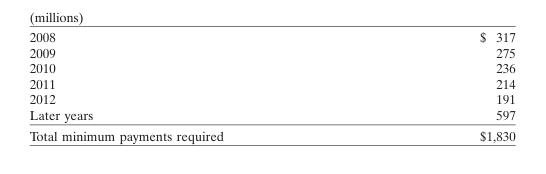table: (28, 29, 514, 142)
table column: (28, 29, 351, 142), (351, 29, 514, 142)
table row: (28, 106, 514, 124), (28, 124, 514, 142), (28, 44, 514, 60), (28, 75, 514, 91), (28, 29, 514, 44), (28, 60, 514, 75), (28, 91, 514, 106)
